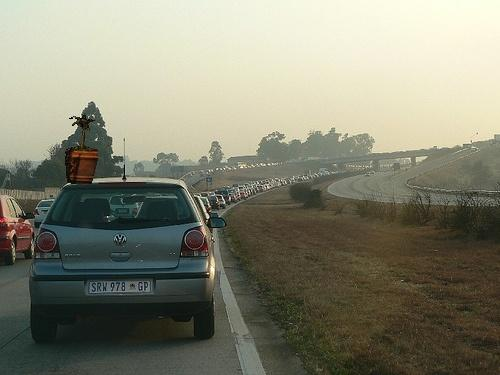tampered: (66, 114, 98, 184)
